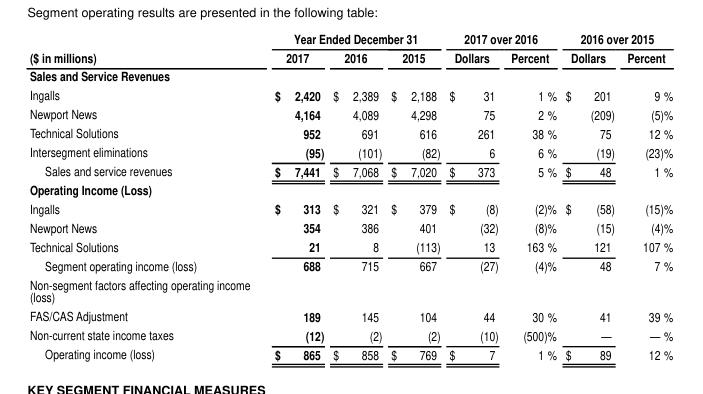table: (28, 29, 672, 362)
table column: (28, 29, 235, 362), (235, 29, 327, 362), (444, 29, 504, 362), (560, 29, 620, 362), (385, 29, 444, 362), (327, 29, 385, 362), (504, 29, 560, 362), (620, 29, 672, 362)
table column header: (28, 29, 672, 66)
table projected row header: (28, 274, 672, 305), (28, 179, 672, 198), (28, 66, 672, 84)
table row: (28, 274, 672, 305), (28, 305, 672, 325), (28, 47, 672, 66), (28, 84, 672, 103), (28, 103, 672, 122), (28, 122, 672, 141), (28, 141, 672, 160), (28, 160, 672, 179), (28, 179, 672, 198), (28, 198, 672, 217), (28, 217, 672, 236), (28, 236, 672, 255), (28, 255, 672, 274), (28, 325, 672, 344), (28, 29, 672, 47), (28, 66, 672, 84), (28, 344, 672, 362)
table spanning cell: (28, 29, 235, 66), (235, 29, 444, 47), (444, 29, 560, 47), (560, 29, 672, 47)
